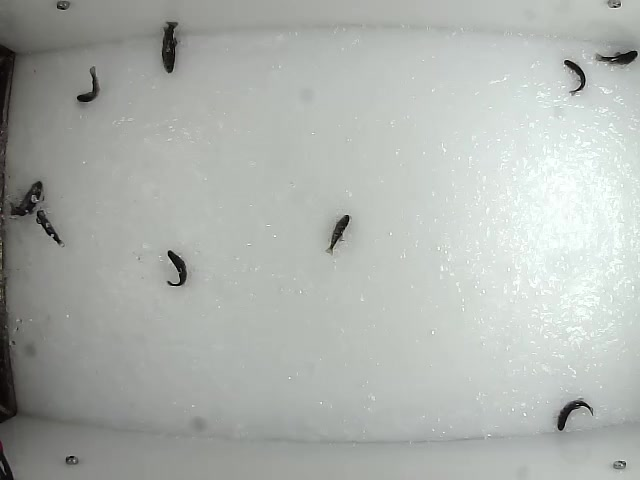fish: (4, 177, 44, 219), (554, 398, 598, 431), (322, 213, 351, 256), (34, 207, 63, 248), (72, 64, 101, 104), (162, 245, 187, 289), (562, 58, 588, 95), (160, 21, 178, 74), (595, 50, 637, 65)
